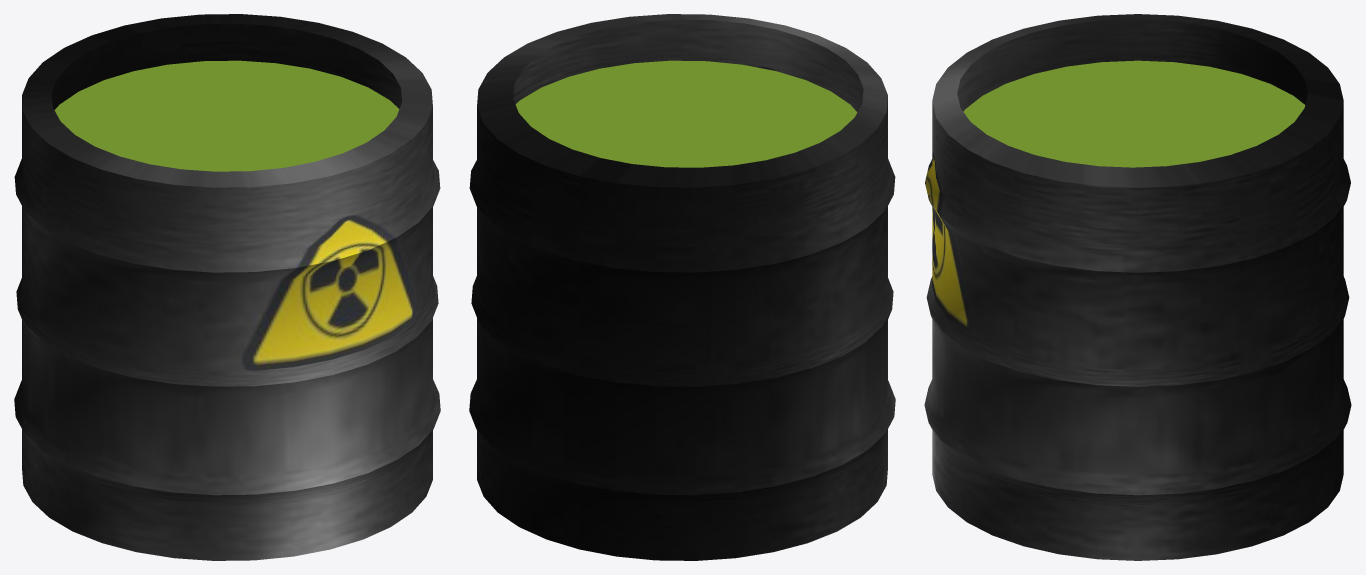
Rendered from bote toxico.obj.
3 views of the same model, side by side, from view 1: azimuth 30°, elevation 25°; view 2: azimuth 150°, elevation 25°; view 3: azimuth 270°, elevation 25° (orthographic).
Visible parts, largest first — view 1: Cilindro; view 2: Cilindro; view 3: Cilindro.
Boxes of the visible parts, <box> form: Cilindro: <box>14,14,440,560</box>; Cilindro: <box>469,14,895,560</box>; Cilindro: <box>924,14,1351,560</box>.
Bounding box in the file's own units: 2.08 × 2.03 × 2.08.
2 materials, 2 textured.
